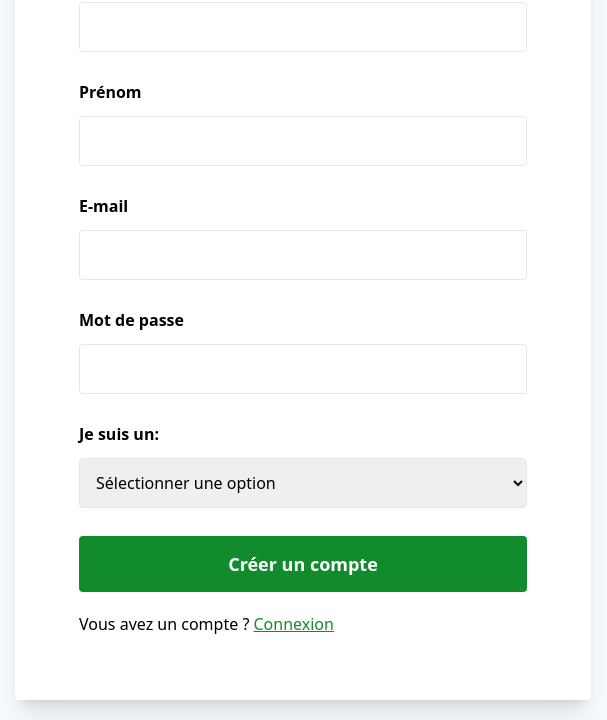
Test case: Register proccess › should renders 5 error messages if the user tries to submit the form with empty fields
The width and height of the screenshot is (607, 720).
(page scrolled)
Click the button "Créer un compte" at (303, 564), box [79,536,527,592]
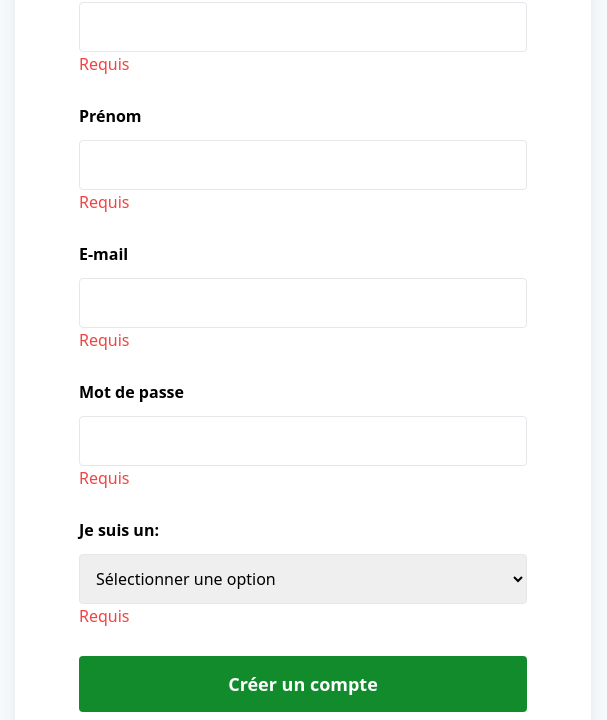
Result: the number of elements with test id "inputErr" is 5 at [79,53,130,75]; [79,191,130,213]; [79,329,130,351]; [79,467,130,489]; [79,605,130,627]
Result: the 1st text with test id "inputErr" reads "Requis" at [79,53,130,75]
